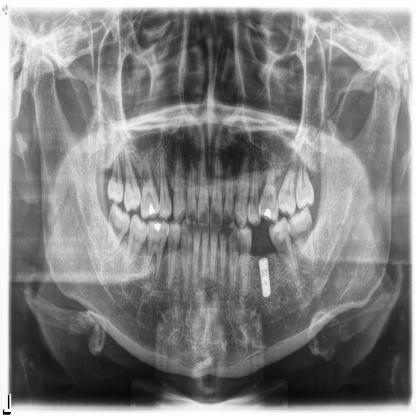ITI: (258, 256, 271, 302)
